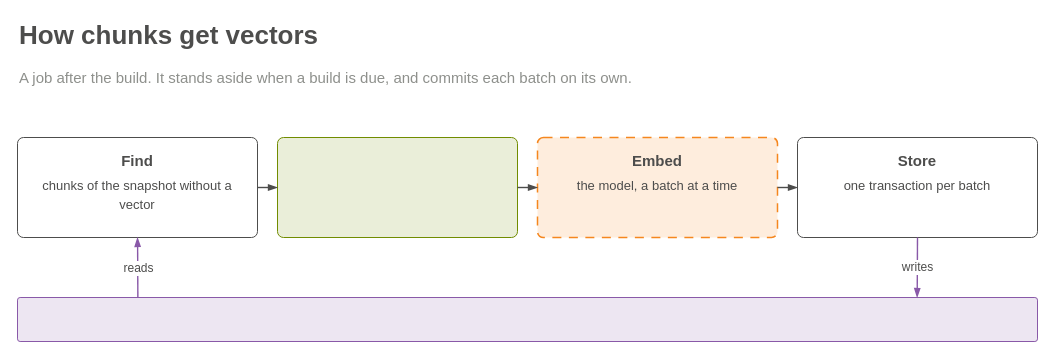
This 1055x359 diagram has some shape labels left out. The shapes that lost their labels are listed below. From the top down, each one's centre as x and y in pixels, then its label:
At pixel 397 187: "Text the chunk's name, a newline, its content".
At pixel 527 319: "chunks".
